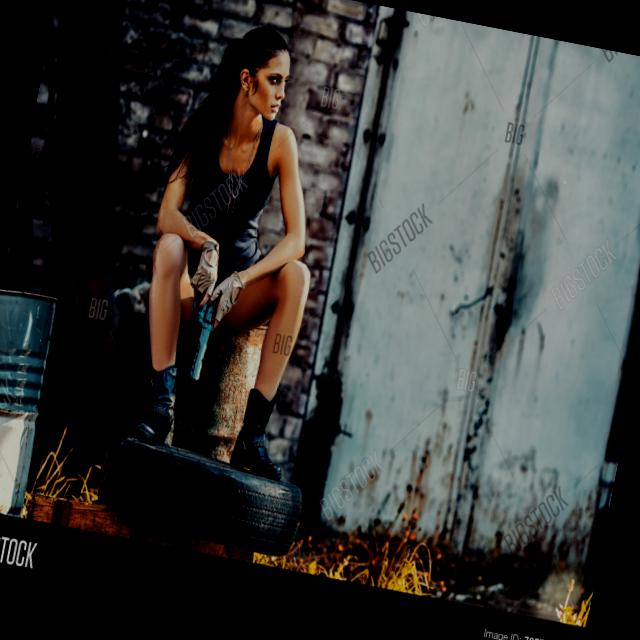handgun: (172, 270, 226, 382)
